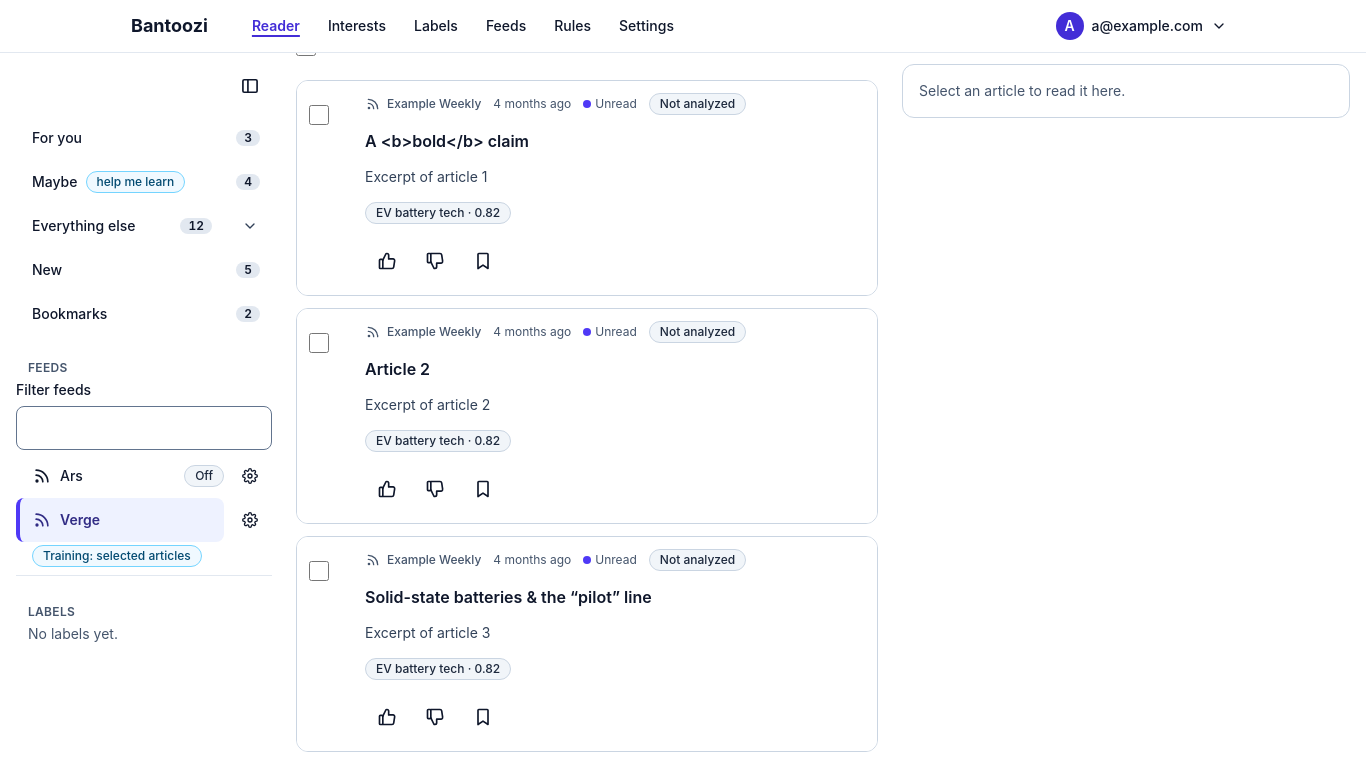
Test: choosing articles › counts the articles chosen, whatever their titles, and sends nothing
(page scrolled)
expect the element "A <b>bold</b> claim" is shown: met, box [296, 80, 878, 296]
Click the 3rd checkbox.
click(319, 571)  # box [309, 561, 329, 581]
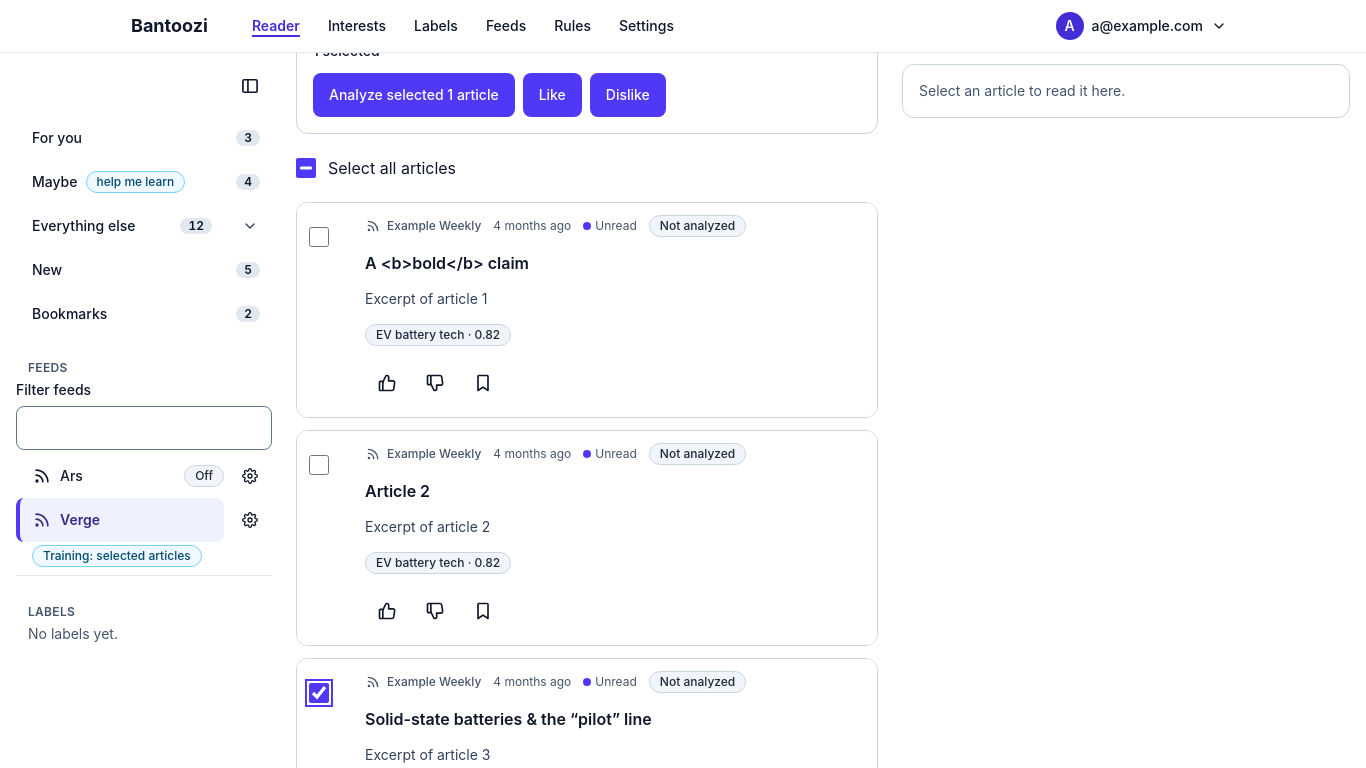
Click the 3rd checkbox.
click(319, 465)  # box [309, 455, 329, 475]
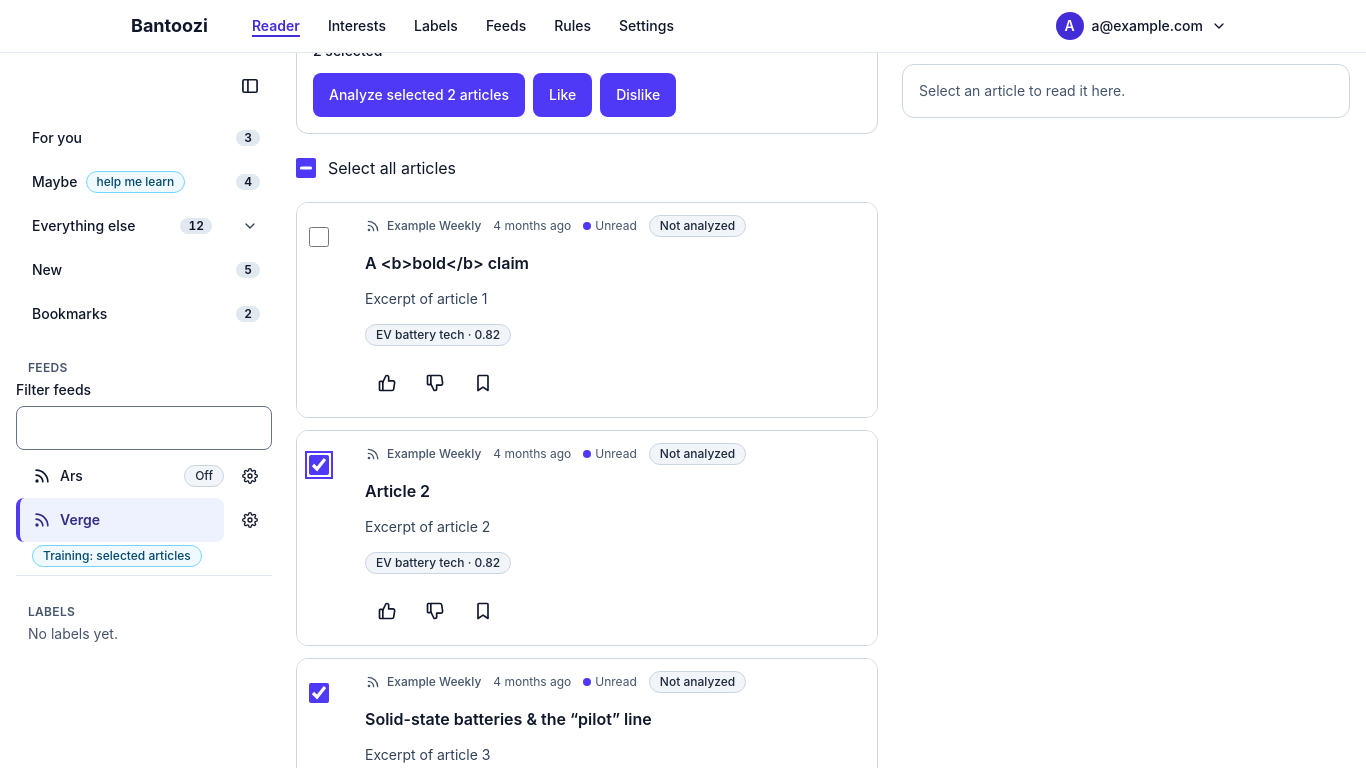
Click the 2nd checkbox.
click(319, 237)  # box [309, 227, 329, 247]
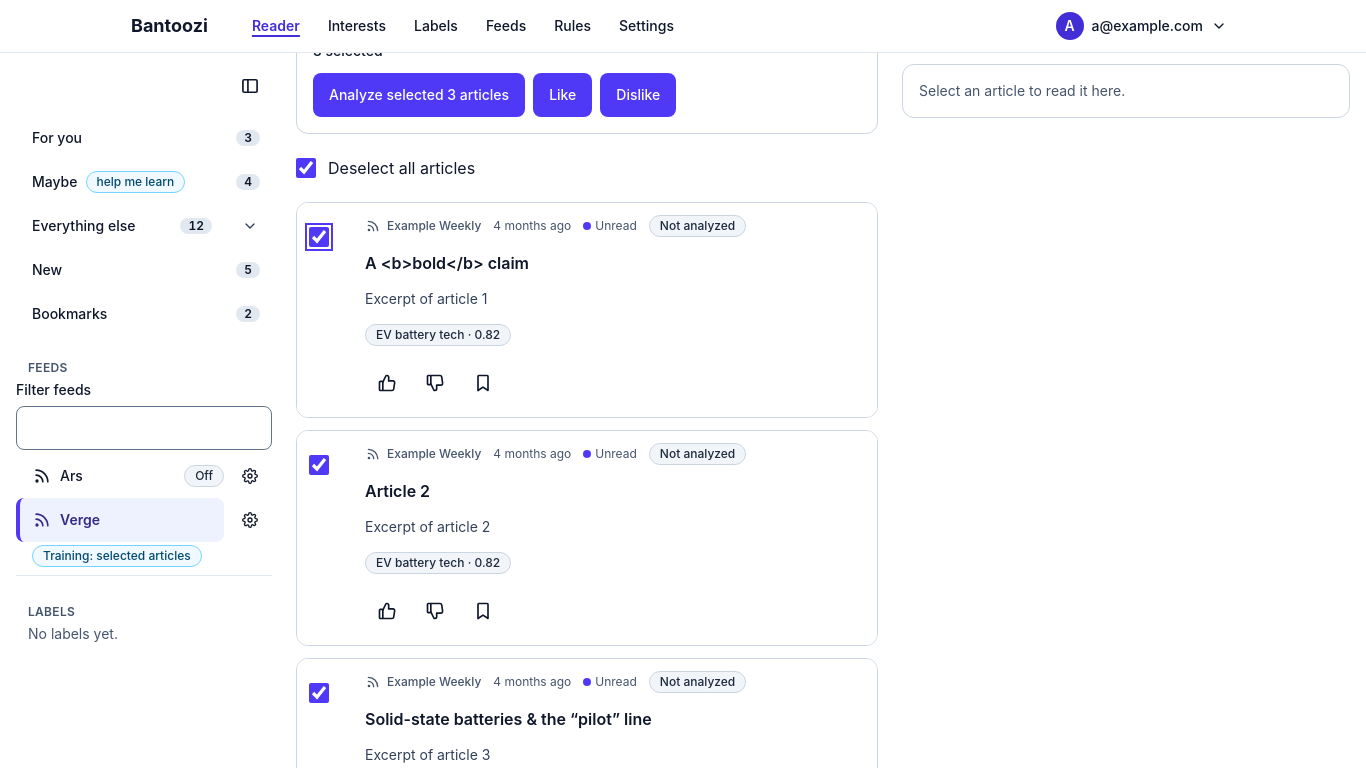
expect the text "3 selected" is shown: met, box [313, 42, 383, 59]
